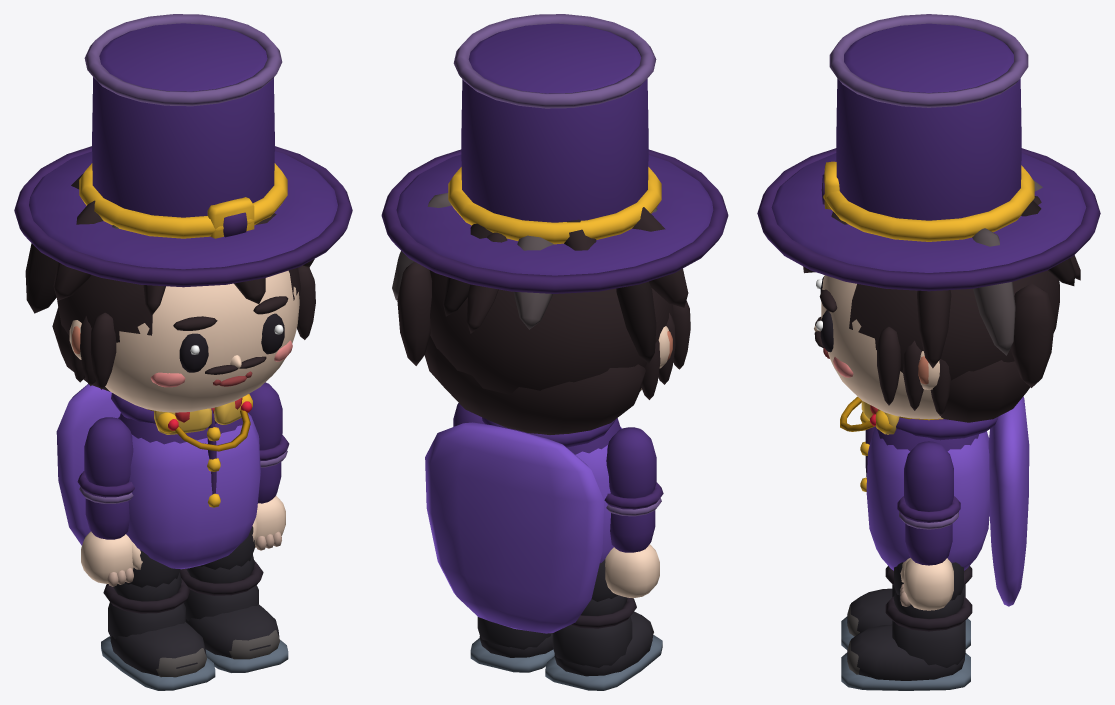
Rendered from fenwick.glb.
3 views of the same model, side by side, from view 1: azimuth 30°, elevation 25°; view 2: azimuth 150°, elevation 25°; view 3: azimuth 270°, elevation 25° (orthographic). The views are drawn at different scales.
Parts seen in each view (by area): view 1: hat, torso, head, hair, shin_r, shin_l, cape, arm_r, arm_l, hand_r, leg_r, leg_l (+3 smaller); view 2: hat, hair, cape, shin_r, arm_r, shin_l, hand_r, torso, leg_r; view 3: hat, hair, torso, cape, shin_l, head, arm_l, hand_l, shin_r, leg_l.
Part boxes in pixels (<box>): hat: <box>14,14,352,287</box>; torso: <box>118,397,260,569</box>; head: <box>69,270,299,412</box>; hair: <box>25,173,315,391</box>; shin_r: <box>101,578,215,690</box>; shin_l: <box>180,560,288,672</box>; cape: <box>56,384,252,545</box>; arm_r: <box>77,417,134,539</box>; arm_l: <box>248,382,289,503</box>; hand_r: <box>81,531,142,586</box>; leg_r: <box>113,550,181,601</box>; leg_l: <box>186,526,255,583</box>; hat: <box>381,14,728,293</box>; hair: <box>392,193,690,434</box>; cape: <box>425,417,615,633</box>; shin_r: <box>545,597,662,690</box>; arm_r: <box>604,427,663,552</box>; shin_l: <box>470,617,554,672</box>; hand_r: <box>605,544,659,598</box>; torso: <box>567,418,621,563</box>; leg_r: <box>581,559,627,615</box>; hat: <box>757,14,1100,291</box>; hair: <box>803,180,1080,422</box>; torso: <box>860,400,989,570</box>; cape: <box>840,396,1029,606</box>; shin_l: <box>841,596,972,690</box>; head: <box>814,275,942,419</box>; arm_l: <box>897,441,960,565</box>; hand_l: <box>900,558,953,610</box>; shin_r: <box>841,566,972,649</box>; leg_l: <box>893,562,964,618</box>.
Bounding box in the file's own units: 0.602 × 1.17 × 0.602.
1 material, 1 textured.
